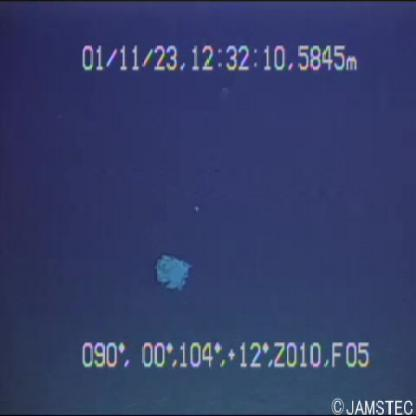Rác: (142, 244, 205, 301)
